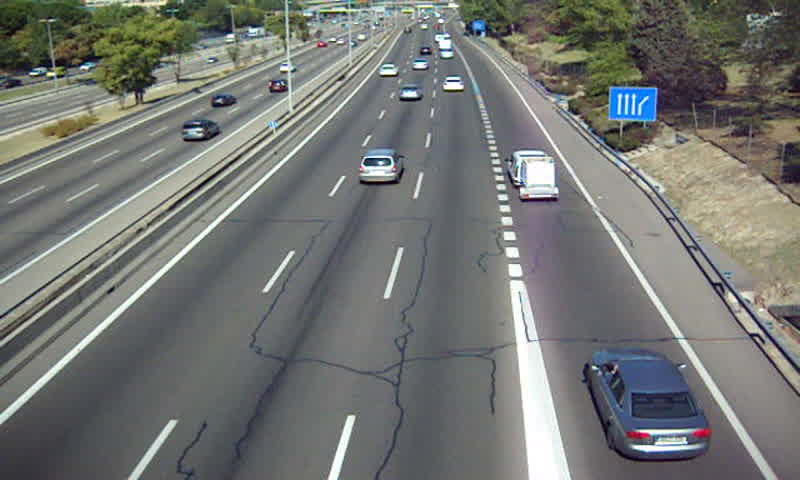car: (586, 348, 711, 459), (358, 149, 403, 184), (397, 84, 424, 102), (442, 77, 464, 92), (379, 62, 398, 77), (412, 57, 430, 72), (440, 49, 455, 59)
van: (508, 150, 550, 185)
